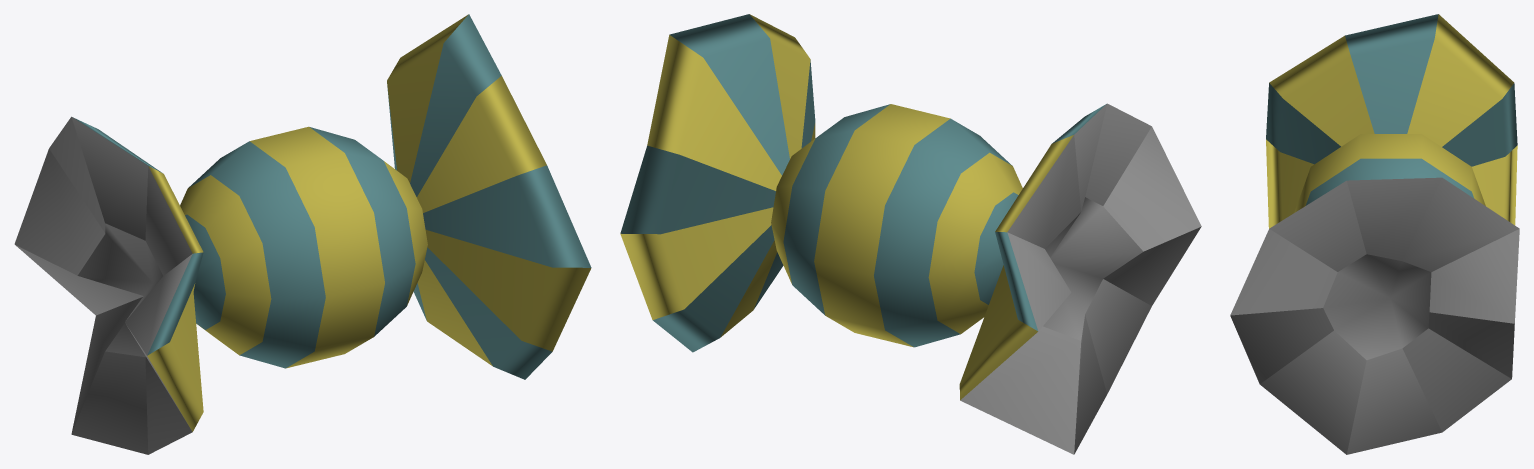
Rendered from Candy_Yellow 1.fbx.
The picture shows the model from 3 angles, left to right: view 1: azimuth 30°, elevation 25°; view 2: azimuth 150°, elevation 25°; view 3: azimuth 270°, elevation 25°; orthographic projection. The views are drawn at different scales.
Parts seen in each view (by area): view 1: pSphere1; view 2: pSphere1; view 3: pSphere1.
Boxes of the visible parts, box(x1,y1,x2,y2) form: pSphere1: box(14, 14, 591, 454); pSphere1: box(620, 14, 1201, 454); pSphere1: box(1230, 14, 1519, 454).
Bounding box in the file's own units: 3.81 × 2.74 × 2.59.
